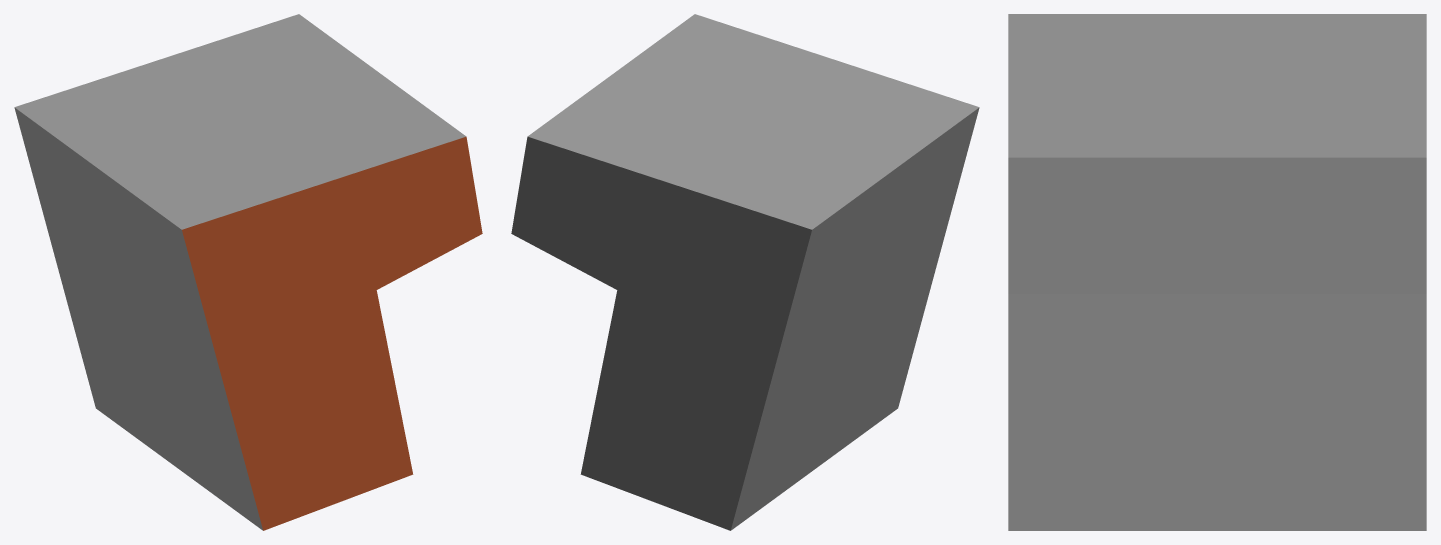
The model's file is construction_5071_assumed_A_Casa_h6m.obj.
The picture shows the model from 3 angles, left to right: view 1: azimuth 30°, elevation 25°; view 2: azimuth 150°, elevation 25°; view 3: azimuth 270°, elevation 25°; orthographic projection. The views are drawn at different scales.
Visible parts, largest first — view 1: construction_5071_assumed_A_Casa; view 2: construction_5071_assumed_A_Casa; view 3: construction_5071_assumed_A_Casa.
Boxes of the visible parts, x1,y1,x2,y2 form: construction_5071_assumed_A_Casa: (14,14,482,530); construction_5071_assumed_A_Casa: (511,14,979,530); construction_5071_assumed_A_Casa: (1008,14,1426,530).
Bounding box in the file's own units: 6.22 × 6.82 × 6.
